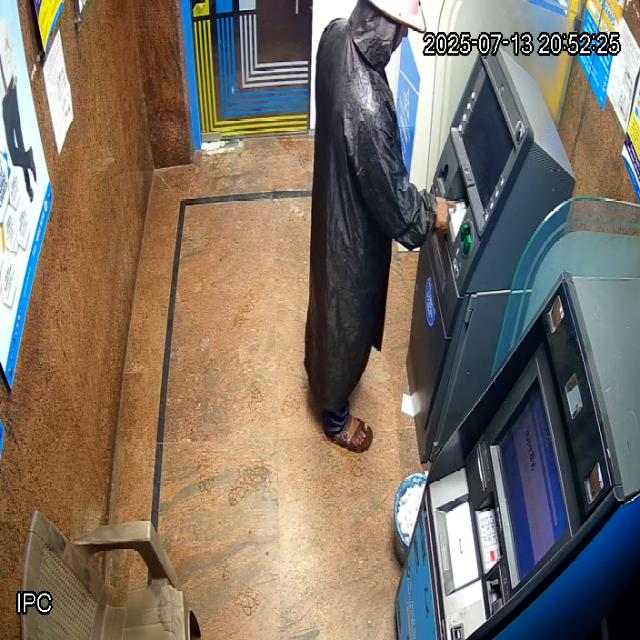helmet: (347, 0, 427, 72)
